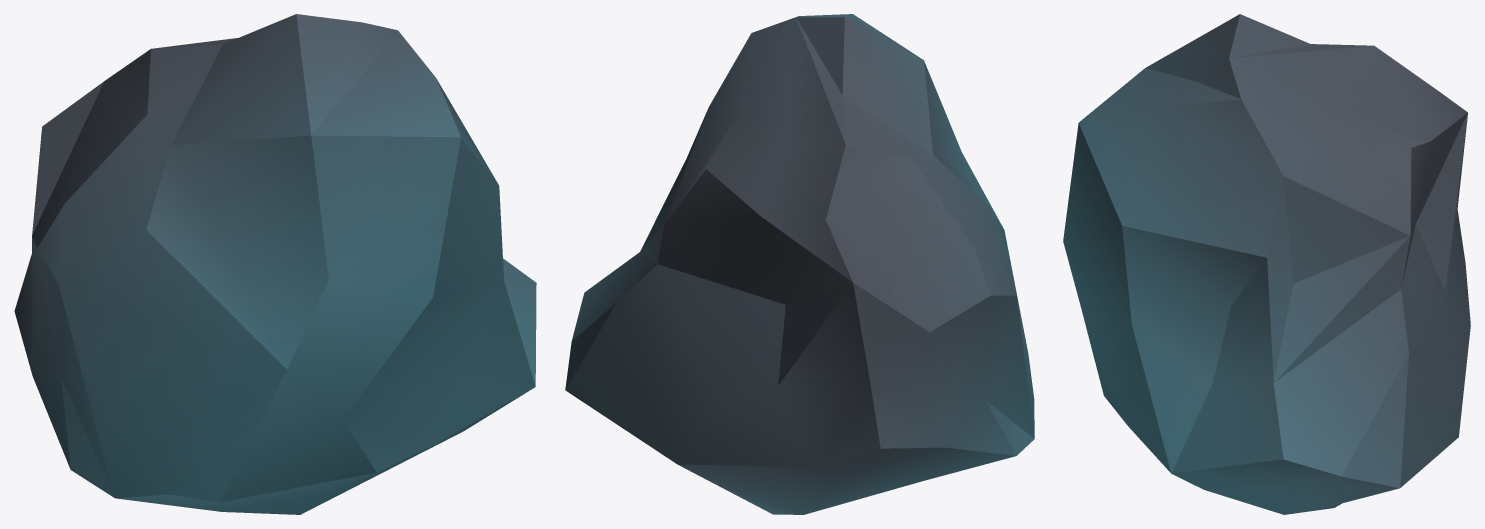
File: Stone_1c.fbx
The picture shows the model from 3 angles, left to right: view 1: azimuth 30°, elevation 25°; view 2: azimuth 150°, elevation 25°; view 3: azimuth 270°, elevation 25°; orthographic projection. The views are drawn at different scales.
Parts seen in each view (by area): view 1: Stone_1c; view 2: Stone_1c; view 3: Stone_1c.
Boxes of the visible parts, bbox=[...] form: Stone_1c: bbox=[14, 14, 536, 514]; Stone_1c: bbox=[565, 14, 1034, 514]; Stone_1c: bbox=[1063, 14, 1470, 514].
Size of the model in its own units: 14.68 by 15.45 by 11.68.
